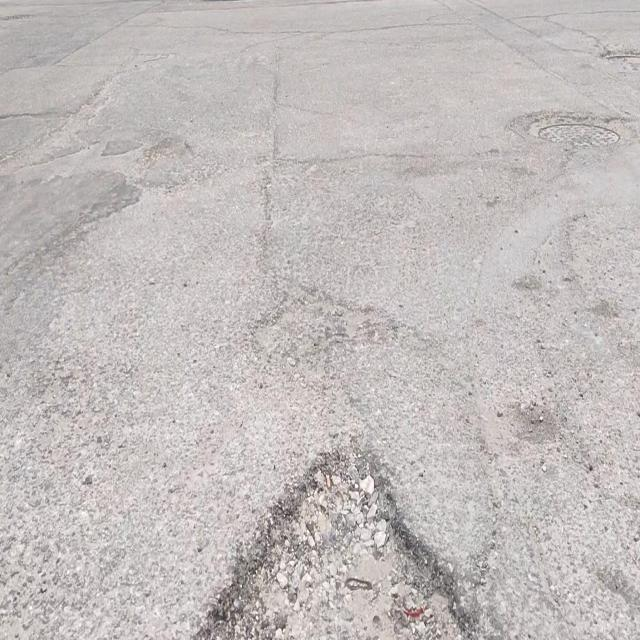Potholes: (200, 443, 481, 640)
